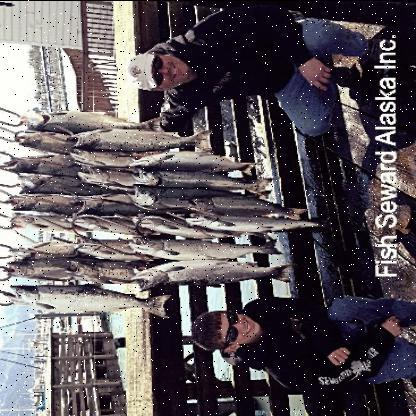fish: (131, 260, 292, 294), (5, 284, 168, 317), (128, 184, 270, 215), (130, 210, 274, 240), (131, 166, 269, 196), (130, 236, 284, 262), (19, 107, 160, 135), (183, 212, 330, 238), (127, 147, 255, 176), (184, 192, 306, 221), (72, 130, 214, 152), (66, 258, 172, 285), (74, 165, 176, 193), (73, 236, 179, 261), (67, 147, 189, 168), (4, 258, 110, 282), (72, 212, 176, 236), (12, 128, 100, 156), (16, 174, 107, 197), (0, 154, 97, 175), (82, 192, 170, 214), (9, 238, 101, 258), (7, 193, 98, 213), (8, 213, 96, 232)
